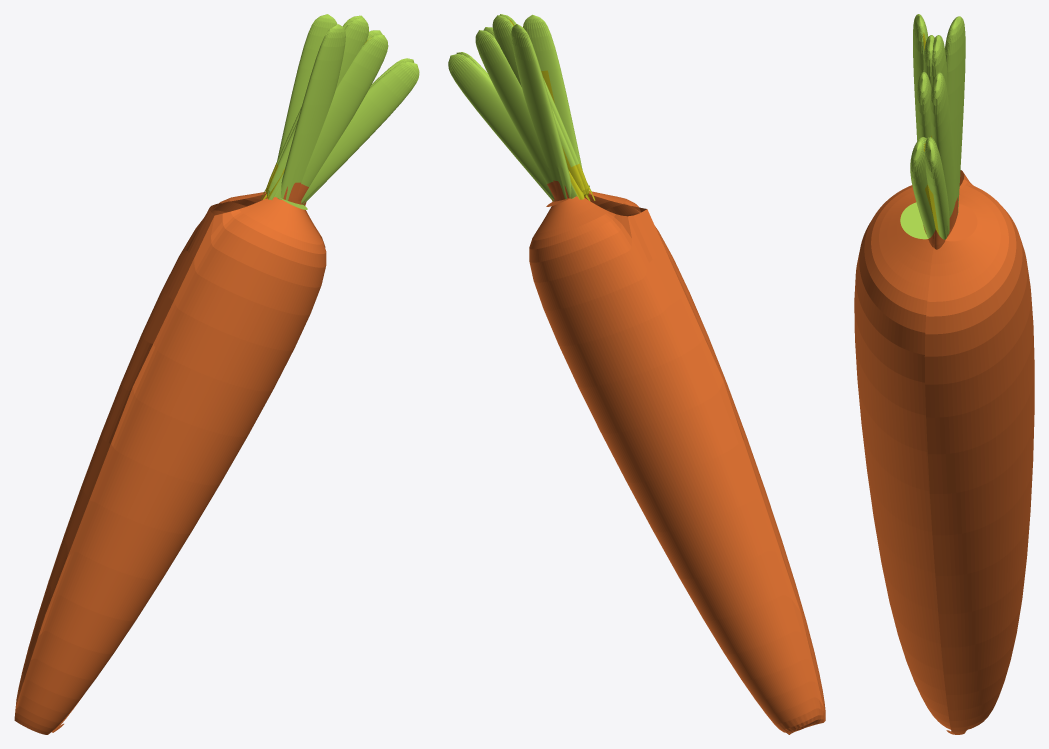
Rendered from CenouraEstilizada.fbx.
3 views of the same model, side by side, from view 1: azimuth 30°, elevation 25°; view 2: azimuth 150°, elevation 25°; view 3: azimuth 270°, elevation 25° (orthographic). The views are drawn at different scales.
Parts seen in each view (by area): view 1: Cube.001; view 2: Cube.001; view 3: Cube.001.
Boxes of the visible parts, x1,y1,x2,y2 form: Cube.001: [14, 14, 419, 734]; Cube.001: [448, 14, 825, 734]; Cube.001: [854, 14, 1034, 734].
Bounding box in the file's own units: 72.25 × 115 × 20.82.
